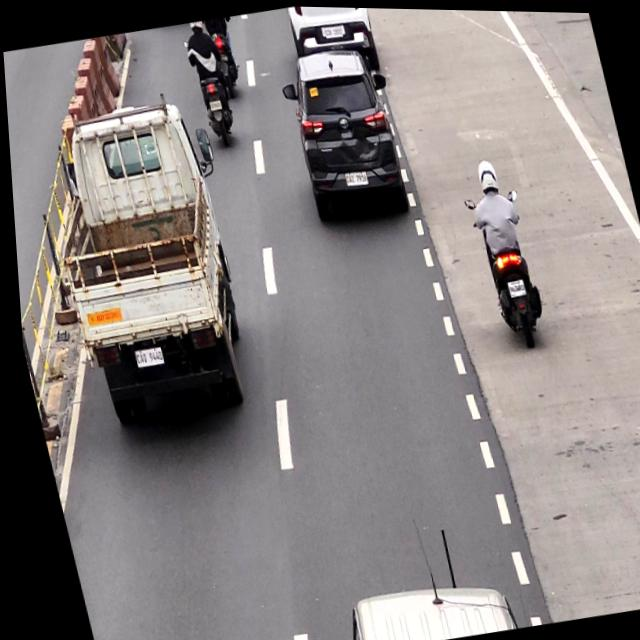Car: (279, 45, 405, 225), (324, 559, 510, 640), (286, 5, 381, 71)
License-Plate: (128, 341, 160, 370), (341, 168, 368, 187), (504, 278, 525, 294)
Motorcycle: (460, 161, 548, 359), (184, 18, 237, 150)
Truck: (39, 100, 252, 428)
